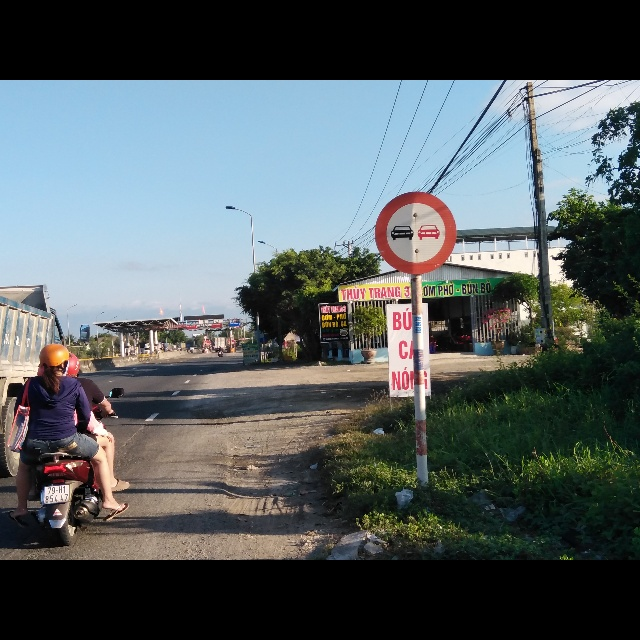Cấm vượt: (372, 190, 457, 274)
